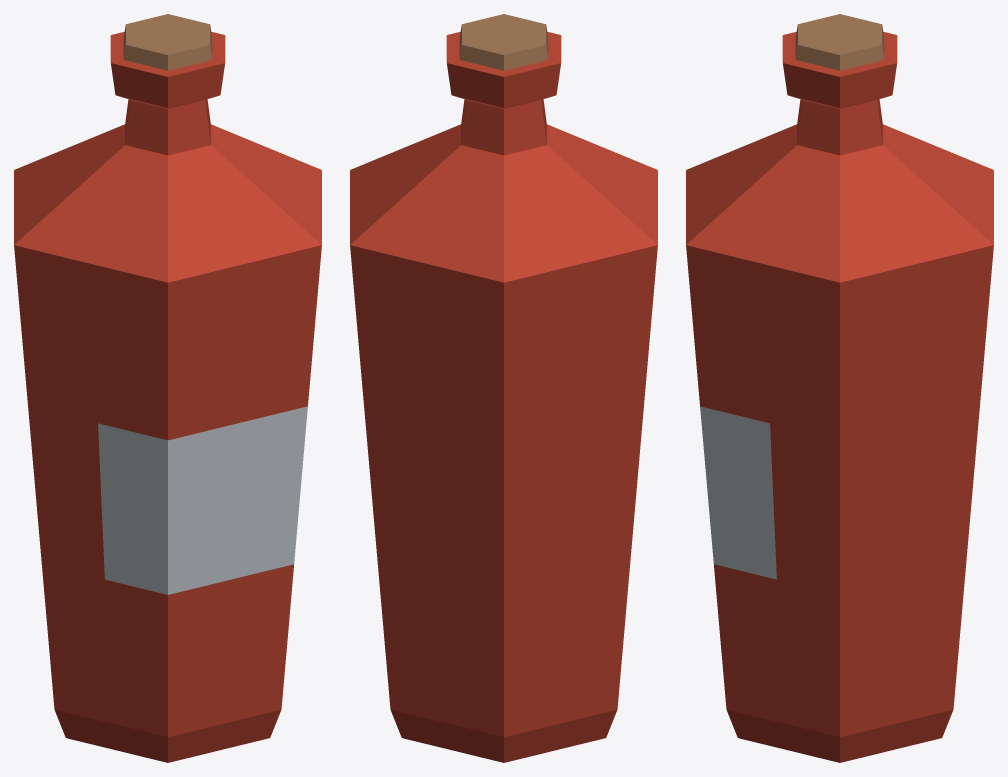
The model's file is Red_Potion_13(Label).fbx.
The picture shows the model from 3 angles, left to right: view 1: azimuth 30°, elevation 25°; view 2: azimuth 150°, elevation 25°; view 3: azimuth 270°, elevation 25°; orthographic projection.
Parts seen in each view (by area): view 1: Red_Potion_13(Label); view 2: Red_Potion_13(Label); view 3: Red_Potion_13(Label).
Boxes of the visible parts, x1=… form: Red_Potion_13(Label): x1=14, y1=14, x2=321, y2=762; Red_Potion_13(Label): x1=350, y1=14, x2=657, y2=762; Red_Potion_13(Label): x1=686, y1=14, x2=993, y2=762.
Size of the model in its own units: 17.9 by 37.69 by 15.5.
